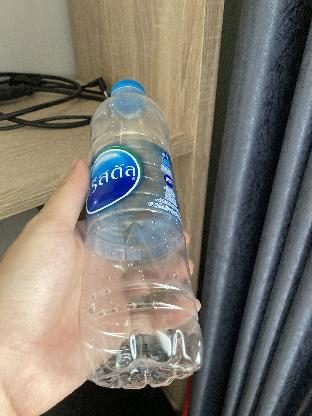Plastic Bottle: (76, 78, 208, 392)
